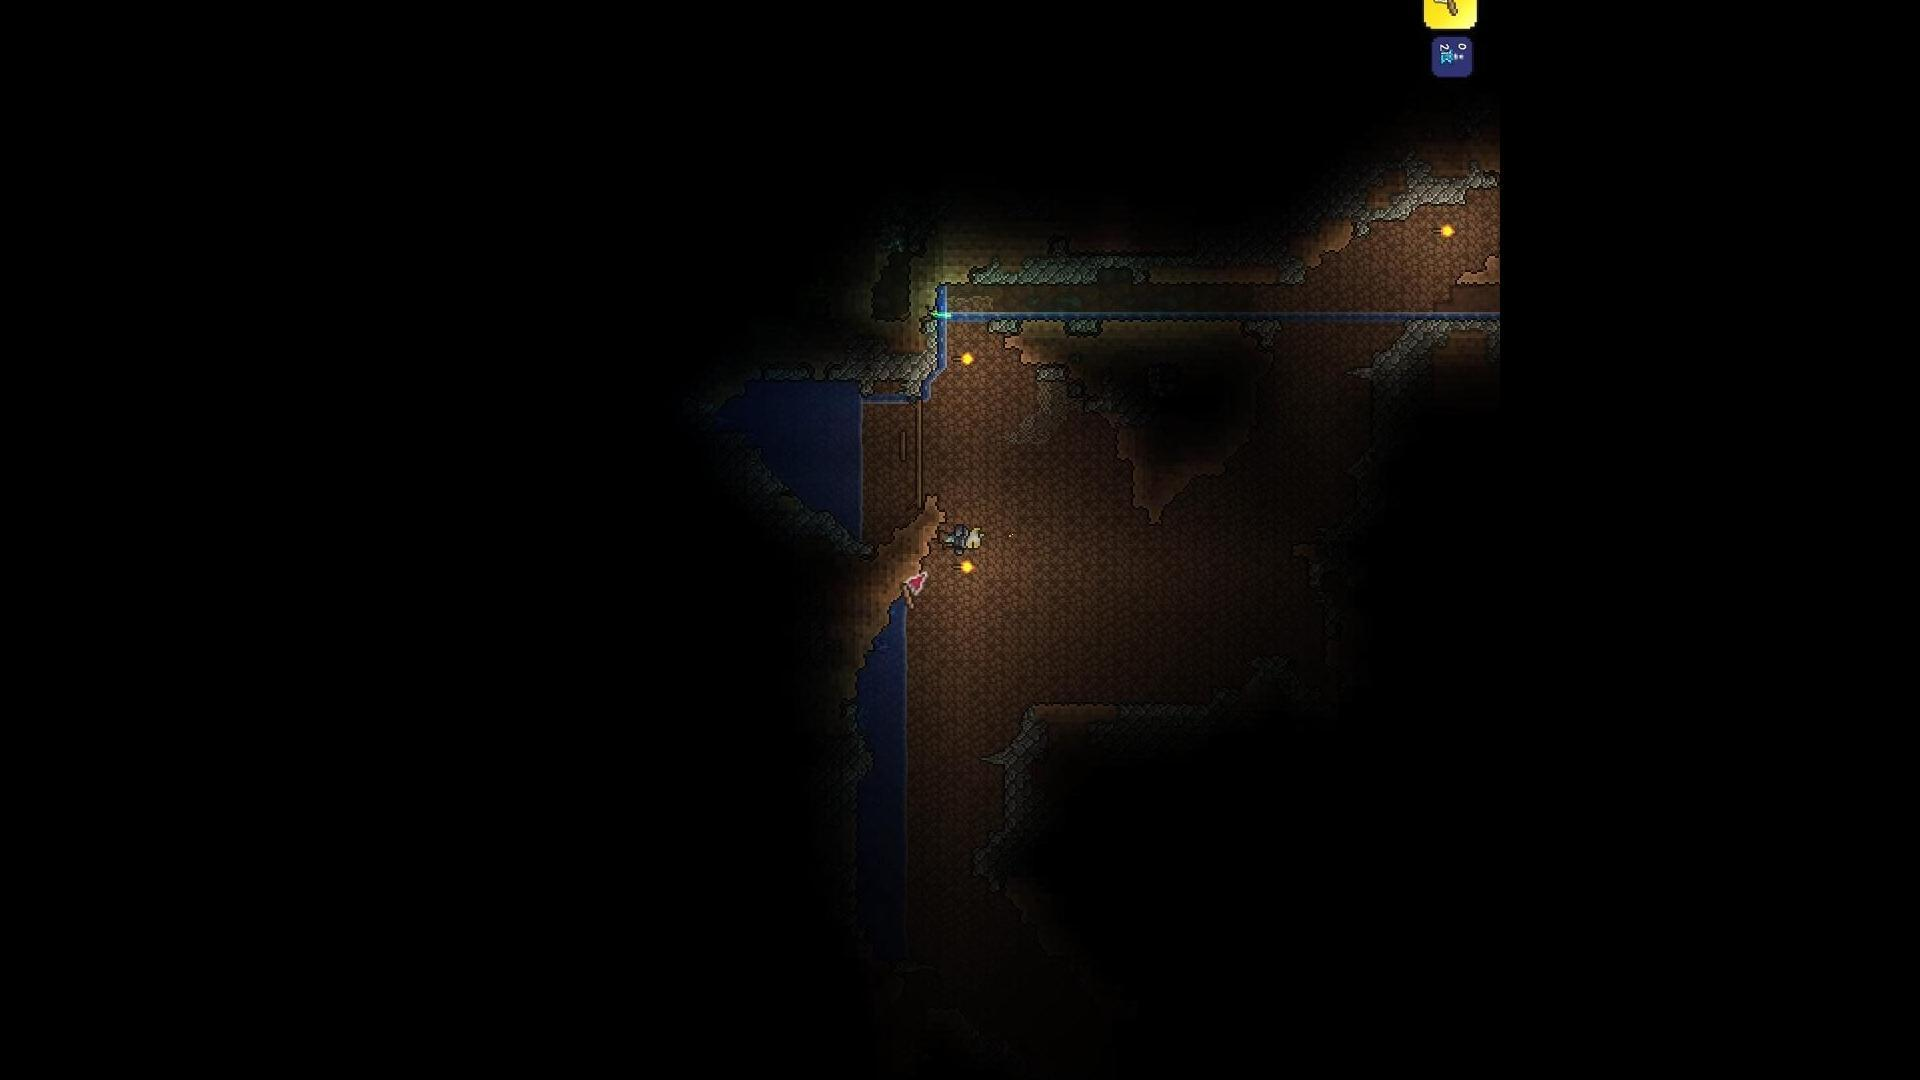glowstick: (931, 306, 956, 322)
platform: (909, 483, 932, 509), (894, 426, 907, 464), (907, 439, 926, 465), (1441, 0, 1460, 22), (913, 394, 928, 419), (907, 465, 924, 485), (915, 418, 926, 439)
